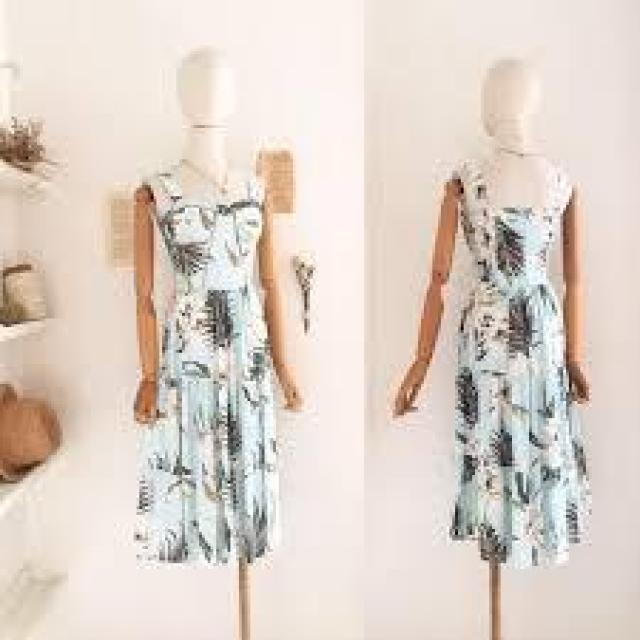dress: (421, 152, 597, 590), (136, 164, 296, 582)
